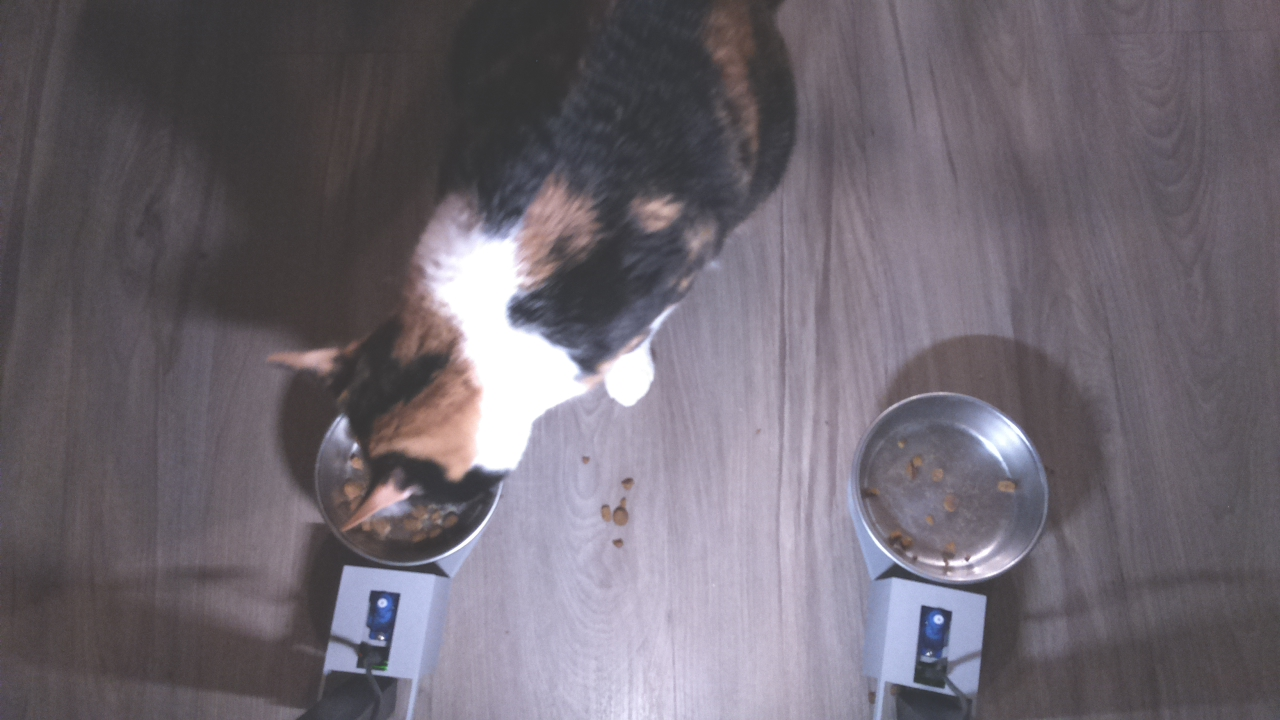bella_eating: (263, 247, 559, 566)
open_bowl: (849, 387, 1054, 591)
